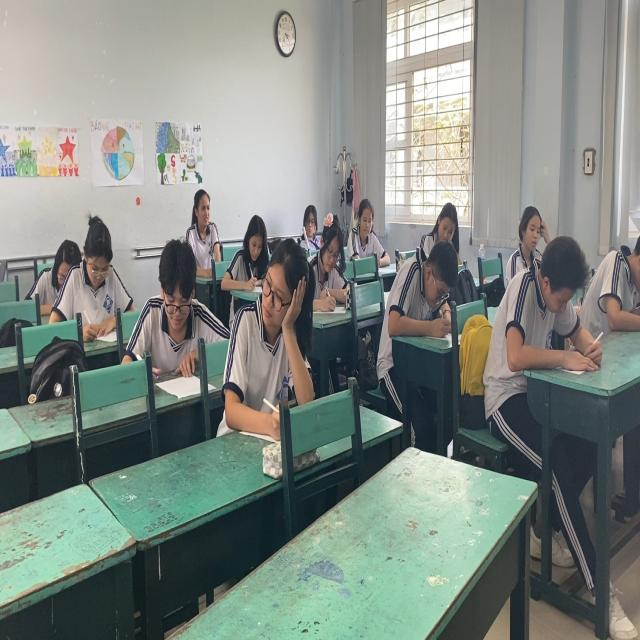cheating: (236, 227, 320, 421)
not_cheating: (133, 230, 218, 382), (43, 210, 132, 324), (525, 227, 599, 359), (298, 206, 348, 317), (390, 240, 456, 317), (346, 200, 389, 286), (185, 192, 220, 272), (509, 206, 546, 262), (430, 206, 463, 251)
